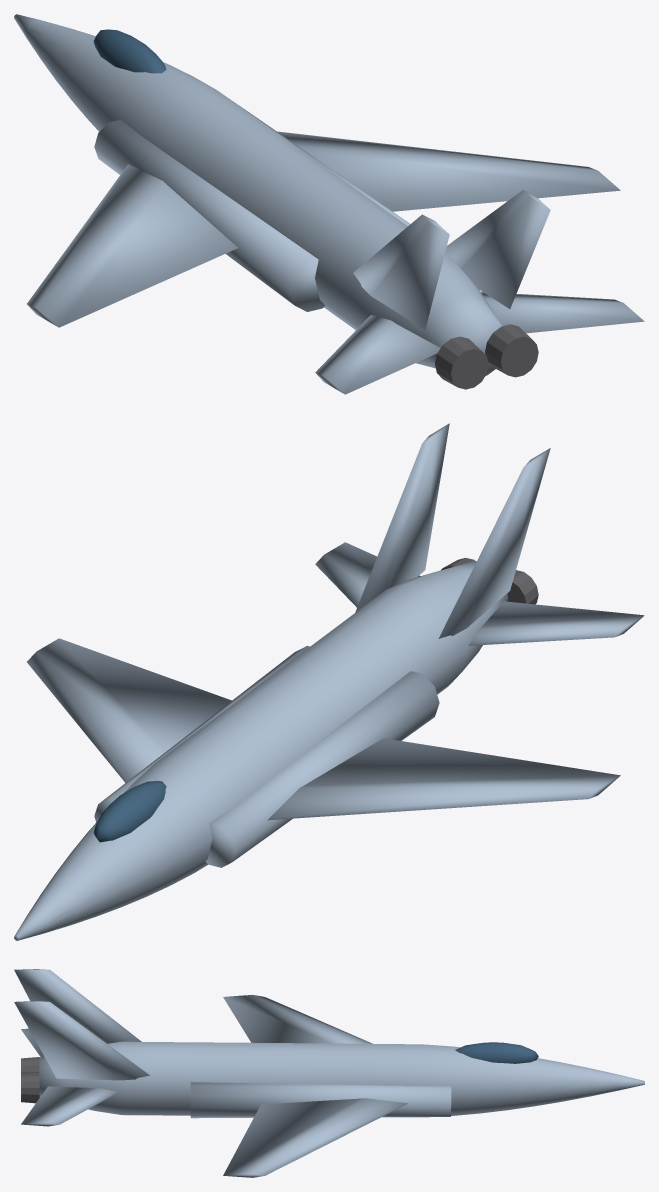
The picture shows the model from 3 angles, top to bottom: view 1: azimuth 30°, elevation 25°; view 2: azimuth 150°, elevation 25°; view 3: azimuth 270°, elevation 25°; orthographic projection. The views are drawn at different scales.
Visible parts, largest first — view 1: Body, Detail, Canopy; view 2: Body, Canopy, Detail; view 3: Body, Canopy, Detail.
Boxes of the visible parts, <box> form: Body: <box>14,14,644,394</box>; Detail: <box>435,324,538,389</box>; Canopy: <box>93,29,166,73</box>; Body: <box>14,423,644,940</box>; Canopy: <box>93,780,166,842</box>; Detail: <box>441,557,538,604</box>; Body: <box>14,969,644,1177</box>; Canopy: <box>455,1042,538,1063</box>; Detail: <box>21,1057,39,1103</box>.
Size of the model in its own units: 1530 by 512 by 2281.
